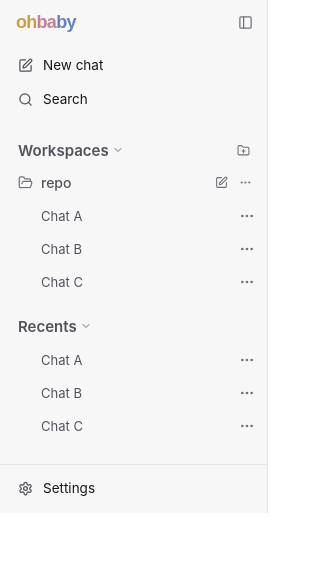
it: moves pinned chats into Pinned, latest pin first, through the menu and the context menu
Later steps or results of the test are not shown.
Click the 1st button named "Actions for Chat B": (247, 249) [235,237,259,261]
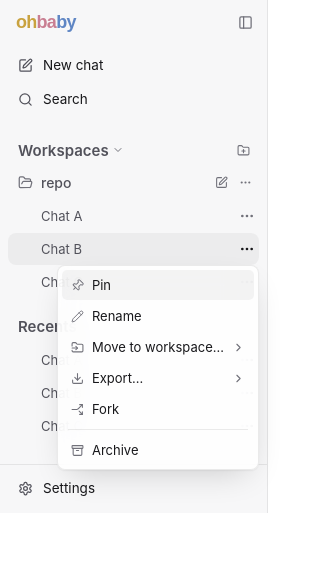
Click the menu item "Pin": (158, 285) [62,270,254,300]
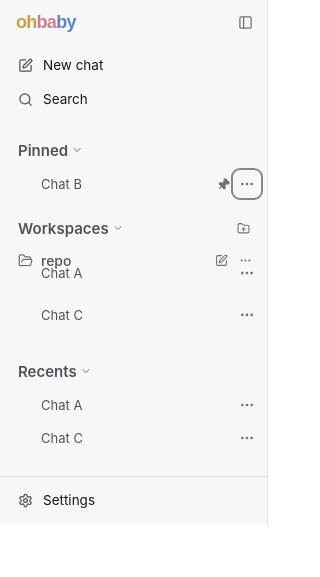
Click the 1st button named "Actions for Chat C": (247, 326) [235,314,259,338]
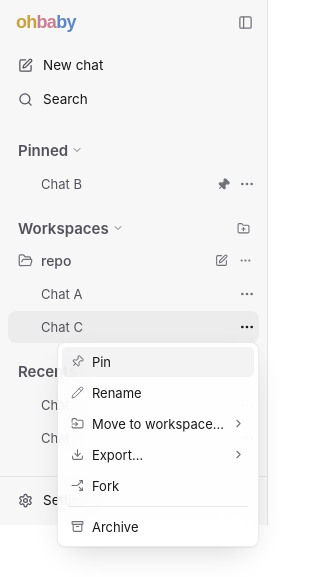
Click the menu item "Pin": (158, 362) [62,347,254,377]
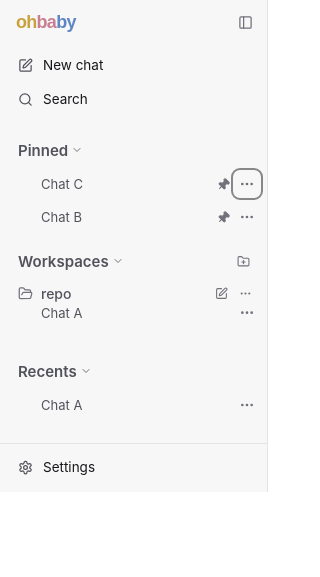
Result: the button named "Unpin Chat B" is shown at [211,205,235,229]
